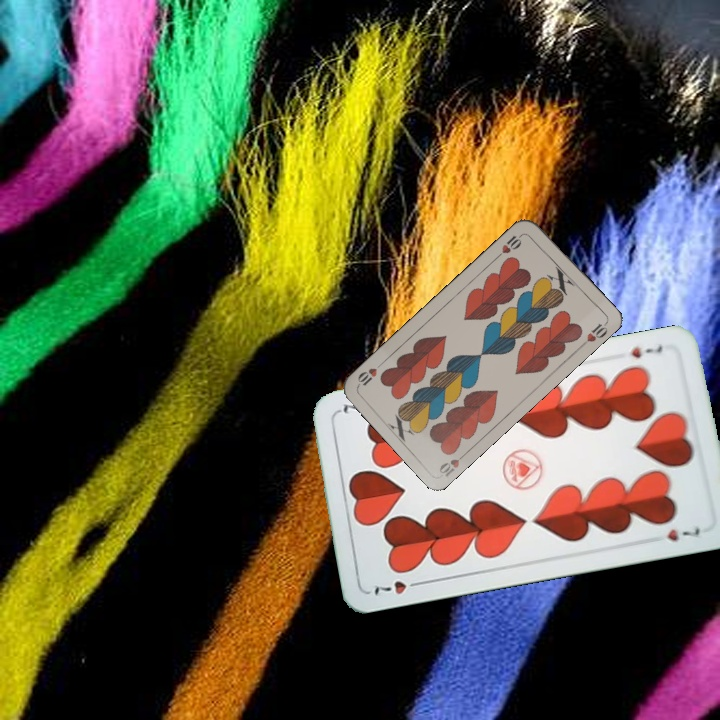H10: (435, 447, 471, 480), (493, 229, 526, 260)
H7: (370, 576, 426, 598), (626, 342, 665, 361)
